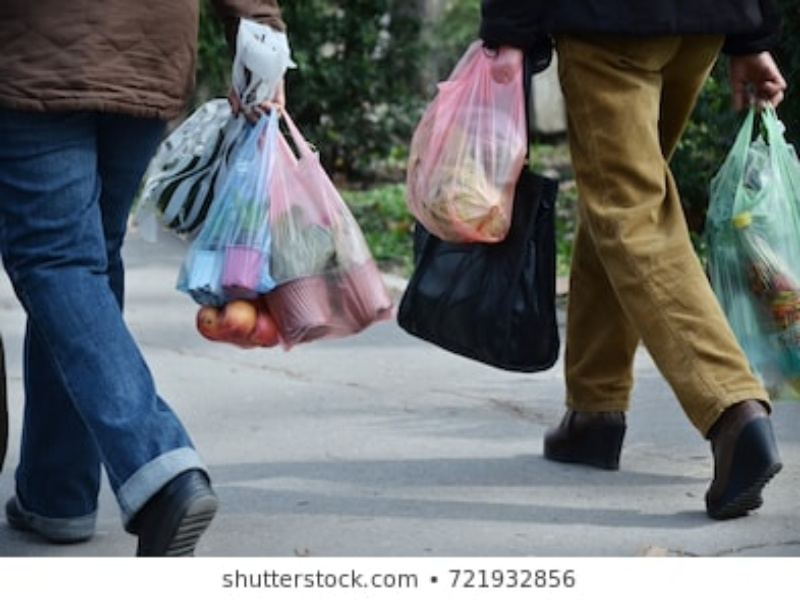plastic-bag: (136, 16, 294, 233), (703, 95, 800, 398), (270, 107, 391, 342), (409, 42, 531, 243), (170, 107, 278, 306)
